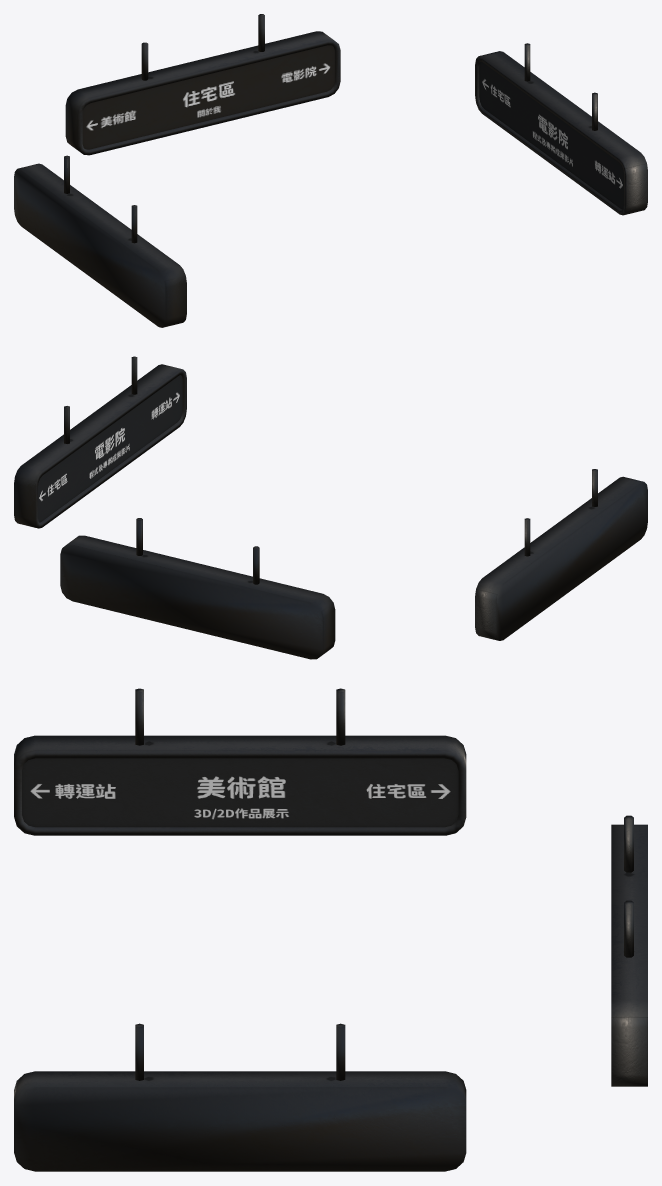
Rendered from Board.gltf.
3 views of the same model, one above another, from view 1: azimuth 30°, elevation 25°; view 2: azimuth 150°, elevation 25°; view 3: azimuth 270°, elevation 25° (orthographic). The views are drawn at different scales.
Parts seen in each view (by area): view 1: Cube.007; view 2: Cube.007; view 3: Cube.007.
Part boxes in pixels (bbox=[...]): Cube.007: bbox=[14, 14, 647, 327]; Cube.007: bbox=[14, 356, 647, 659]; Cube.007: bbox=[14, 688, 647, 1171].
Bounding box in the file's own units: 3.98 × 0.7279 × 3.04.
Materials: 1 (1 with a texture image).
